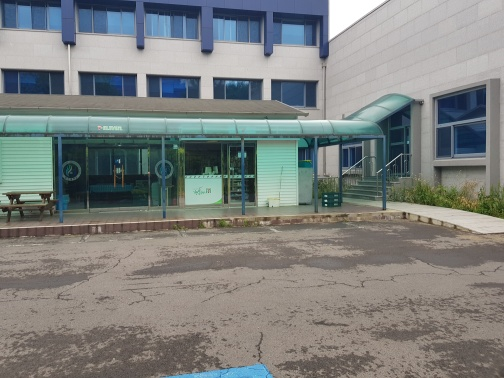College of Social Sciences: (6, 4, 504, 230), (29, 79, 423, 213)
